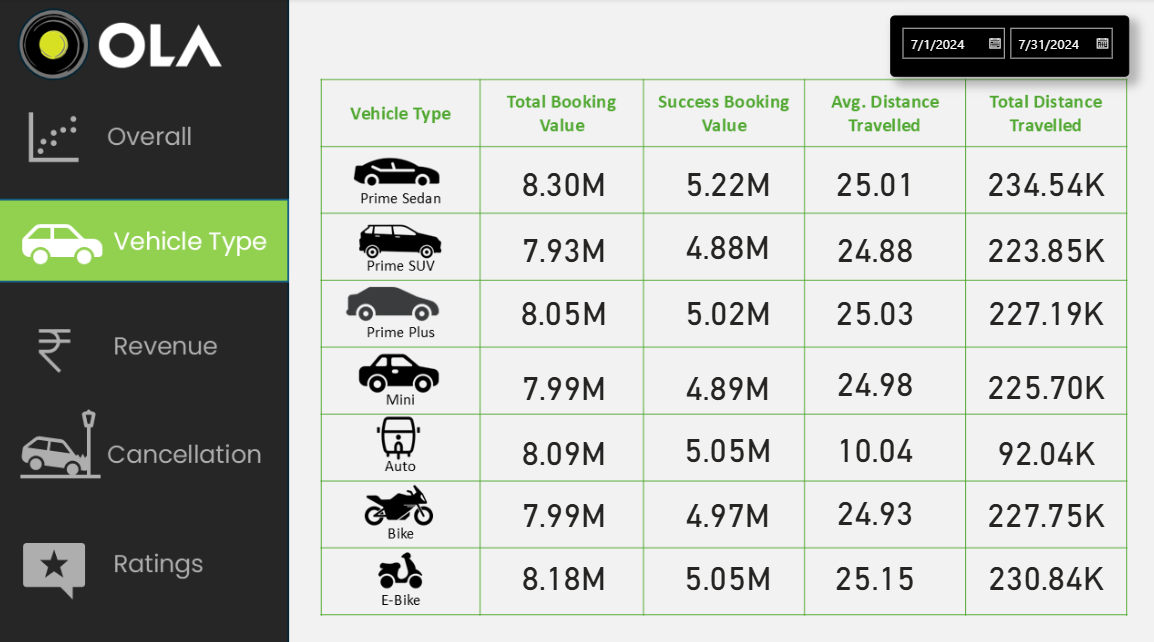

The page's visual inventory and layout, read from the dashboard file:
{"tool":"powerbi","page":{"name":"Vehicle Type","canvas":[1280,720],"ordinal":1},"visuals":[{"type":"actionButton","box":[0,106.2,324.5,96.5],"z":0},{"type":"actionButton","box":[0,329.4,324.5,96.5],"z":1000},{"type":"actionButton","box":[0,446.4,324.5,95.3],"z":2000},{"type":"actionButton","box":[0,574.3,323.3,95.3],"z":3000},{"type":"card","fields":{"Values":["Sum(Bookings_Cleaned.Booking_Value)"]},"box":[544.8,167.4,161.9,68.6],"z":4000},{"type":"card","fields":{"Values":["Sum(Bookings_Cleaned.Booking_Value)"]},"box":[544.8,240.1,161.9,68.6],"z":5000},{"type":"card","fields":{"Values":["Sum(Bookings_Cleaned.Booking_Value)"]},"box":[544.8,308.7,161.9,68.6],"z":6000},{"type":"card","fields":{"Values":["Sum(Bookings_Cleaned.Booking_Value)"]},"box":[544.8,391.1,161.9,68.6],"z":7000},{"type":"card","fields":{"Values":["Sum(Bookings_Cleaned.Booking_Value)"]},"box":[544.8,462.4,161.9,68.6],"z":8000},{"type":"card","fields":{"Values":["Sum(Bookings_Cleaned.Booking_Value)"]},"box":[544.8,531,161.9,68.6],"z":9000},{"type":"card","fields":{"Values":["Sum(Bookings_Cleaned.Booking_Value)"]},"box":[544.8,599.7,161.9,68.6],"z":10000},{"type":"card","fields":{"Values":["Sum(Bookings_Cleaned.Booking_Value)"]},"box":[724.5,167.4,161.9,68.6],"z":11000},{"type":"card","fields":{"Values":["Sum(Bookings_Cleaned.Booking_Value)"]},"box":[724.5,308.7,161.9,68.6],"z":12000},{"type":"card","fields":{"Values":["Sum(Bookings_Cleaned.Booking_Value)"]},"box":[724.5,391.1,161.9,68.6],"z":13000},{"type":"card","fields":{"Values":["Sum(Bookings_Cleaned.Booking_Value)"]},"box":[724.5,459.7,161.9,68.6],"z":14000},{"type":"card","fields":{"Values":["Sum(Bookings_Cleaned.Booking_Value)"]},"box":[724.5,531,161.9,68.6],"z":15000},{"type":"card","fields":{"Values":["Sum(Bookings_Cleaned.Booking_Value)"]},"box":[724.5,599.7,161.9,68.6],"z":16000},{"type":"card","fields":{"Values":["Sum(Bookings_Cleaned.Booking_Value)"]},"box":[724.5,236,161.9,68.6],"z":17000},{"type":"card","fields":{"Values":["Avg(Bookings_Cleaned.Ride_Distance)"]},"box":[886.5,167.4,161.9,68.6],"z":18000},{"type":"card","fields":{"Values":["Avg(Bookings_Cleaned.Ride_Distance)"]},"box":[886.5,240.1,161.9,68.6],"z":19000},{"type":"card","fields":{"Values":["Avg(Bookings_Cleaned.Ride_Distance)"]},"box":[886.5,308.7,161.9,68.6],"z":20000},{"type":"card","fields":{"Values":["Avg(Bookings_Cleaned.Ride_Distance)"]},"box":[886.5,381.5,161.9,78.2],"z":21000},{"type":"card","fields":{"Values":["Avg(Bookings_Cleaned.Ride_Distance)"]},"box":[886.5,459.7,161.9,68.6],"z":22000},{"type":"card","fields":{"Values":["Avg(Bookings_Cleaned.Ride_Distance)"]},"box":[886.5,528.3,161.9,68.6],"z":23000},{"type":"card","fields":{"Values":["Avg(Bookings_Cleaned.Ride_Distance)"]},"box":[886.5,599.7,161.9,68.6],"z":24000},{"type":"card","fields":{"Values":["Sum(Bookings_Cleaned.Ride_Distance)"]},"box":[1074.4,167.4,161.9,68.6],"z":25000},{"type":"card","fields":{"Values":["Sum(Bookings_Cleaned.Ride_Distance)"]},"box":[1074.4,240.1,161.9,68.6],"z":26000},{"type":"card","fields":{"Values":["Sum(Bookings_Cleaned.Ride_Distance)"]},"box":[1074.4,308.7,161.9,68.6],"z":27000},{"type":"card","fields":{"Values":["Sum(Bookings_Cleaned.Ride_Distance)"]},"box":[1074.4,385.6,161.9,78.2],"z":28000},{"type":"card","fields":{"Values":["Sum(Bookings_Cleaned.Ride_Distance)"]},"box":[1074.4,462.4,161.9,68.6],"z":29000},{"type":"card","fields":{"Values":["Sum(Bookings_Cleaned.Ride_Distance)"]},"box":[1074.4,531,161.9,68.6],"z":30000},{"type":"card","fields":{"Values":["Sum(Bookings_Cleaned.Ride_Distance)"]},"box":[1074.4,599.7,161.9,68.6],"z":31000},{"type":"slicer","title":"Date","fields":{"Values":["Bookings_Cleaned.Date"]},"box":[983.9,19.2,262.1,67.2],"z":32000}]}

Visuals, with their boxes on the page's 1280x720 design canvas (x1, y1, x2, y2). These are canvas units, not pixel positions in the 1154x642 screenshot, which may show the page scaled, cropped or inside an application window:
actionButton: 0/106/324/203
actionButton: 0/329/324/426
actionButton: 0/446/324/542
actionButton: 0/574/323/670
card - Sum(Bookings_Cleaned.Booking_Value): 545/167/707/236
card - Sum(Bookings_Cleaned.Booking_Value): 545/240/707/309
card - Sum(Bookings_Cleaned.Booking_Value): 545/309/707/377
card - Sum(Bookings_Cleaned.Booking_Value): 545/391/707/460
card - Sum(Bookings_Cleaned.Booking_Value): 545/462/707/531
card - Sum(Bookings_Cleaned.Booking_Value): 545/531/707/600
card - Sum(Bookings_Cleaned.Booking_Value): 545/600/707/668
card - Sum(Bookings_Cleaned.Booking_Value): 724/167/886/236
card - Sum(Bookings_Cleaned.Booking_Value): 724/309/886/377
card - Sum(Bookings_Cleaned.Booking_Value): 724/391/886/460
card - Sum(Bookings_Cleaned.Booking_Value): 724/460/886/528
card - Sum(Bookings_Cleaned.Booking_Value): 724/531/886/600
card - Sum(Bookings_Cleaned.Booking_Value): 724/600/886/668
card - Sum(Bookings_Cleaned.Booking_Value): 724/236/886/305
card - Avg(Bookings_Cleaned.Ride_Distance): 886/167/1048/236
card - Avg(Bookings_Cleaned.Ride_Distance): 886/240/1048/309
card - Avg(Bookings_Cleaned.Ride_Distance): 886/309/1048/377
card - Avg(Bookings_Cleaned.Ride_Distance): 886/382/1048/460
card - Avg(Bookings_Cleaned.Ride_Distance): 886/460/1048/528
card - Avg(Bookings_Cleaned.Ride_Distance): 886/528/1048/597
card - Avg(Bookings_Cleaned.Ride_Distance): 886/600/1048/668
card - Sum(Bookings_Cleaned.Ride_Distance): 1074/167/1236/236
card - Sum(Bookings_Cleaned.Ride_Distance): 1074/240/1236/309
card - Sum(Bookings_Cleaned.Ride_Distance): 1074/309/1236/377
card - Sum(Bookings_Cleaned.Ride_Distance): 1074/386/1236/464
card - Sum(Bookings_Cleaned.Ride_Distance): 1074/462/1236/531
card - Sum(Bookings_Cleaned.Ride_Distance): 1074/531/1236/600
card - Sum(Bookings_Cleaned.Ride_Distance): 1074/600/1236/668
"Date" slicer: 984/19/1246/86
